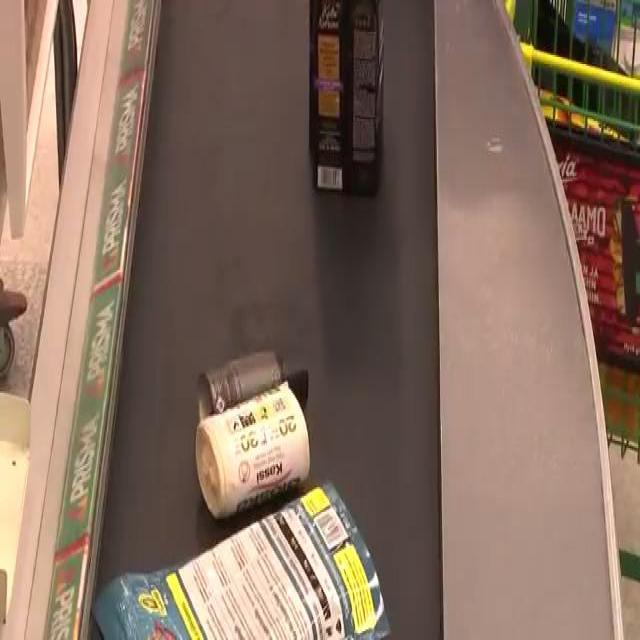food-box: (315, 0, 383, 201)
utility-box: (110, 492, 390, 640), (196, 387, 319, 525), (198, 335, 318, 424)
